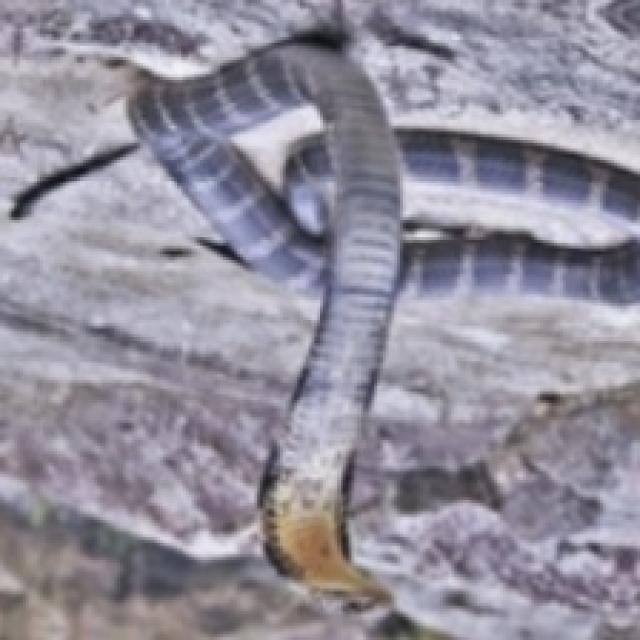king cobra: (0, 0, 371, 637), (346, 0, 637, 637), (234, 106, 329, 231)
